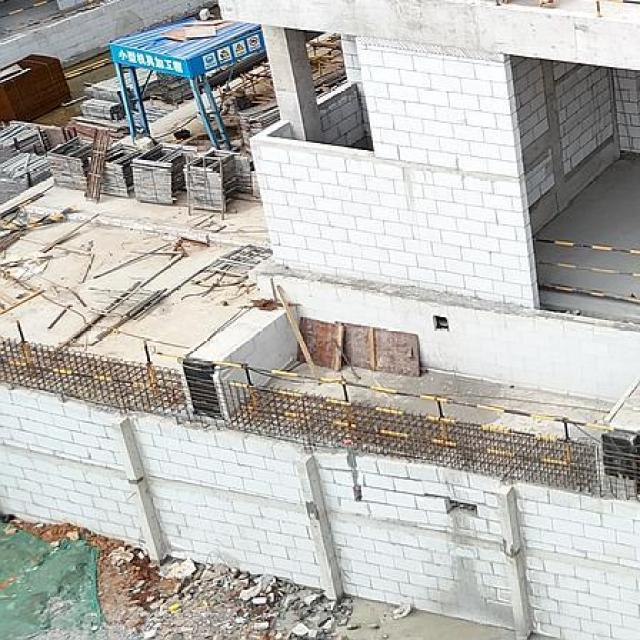edge_guardrail: (213, 360, 616, 474), (0, 320, 170, 396), (533, 237, 640, 306)
